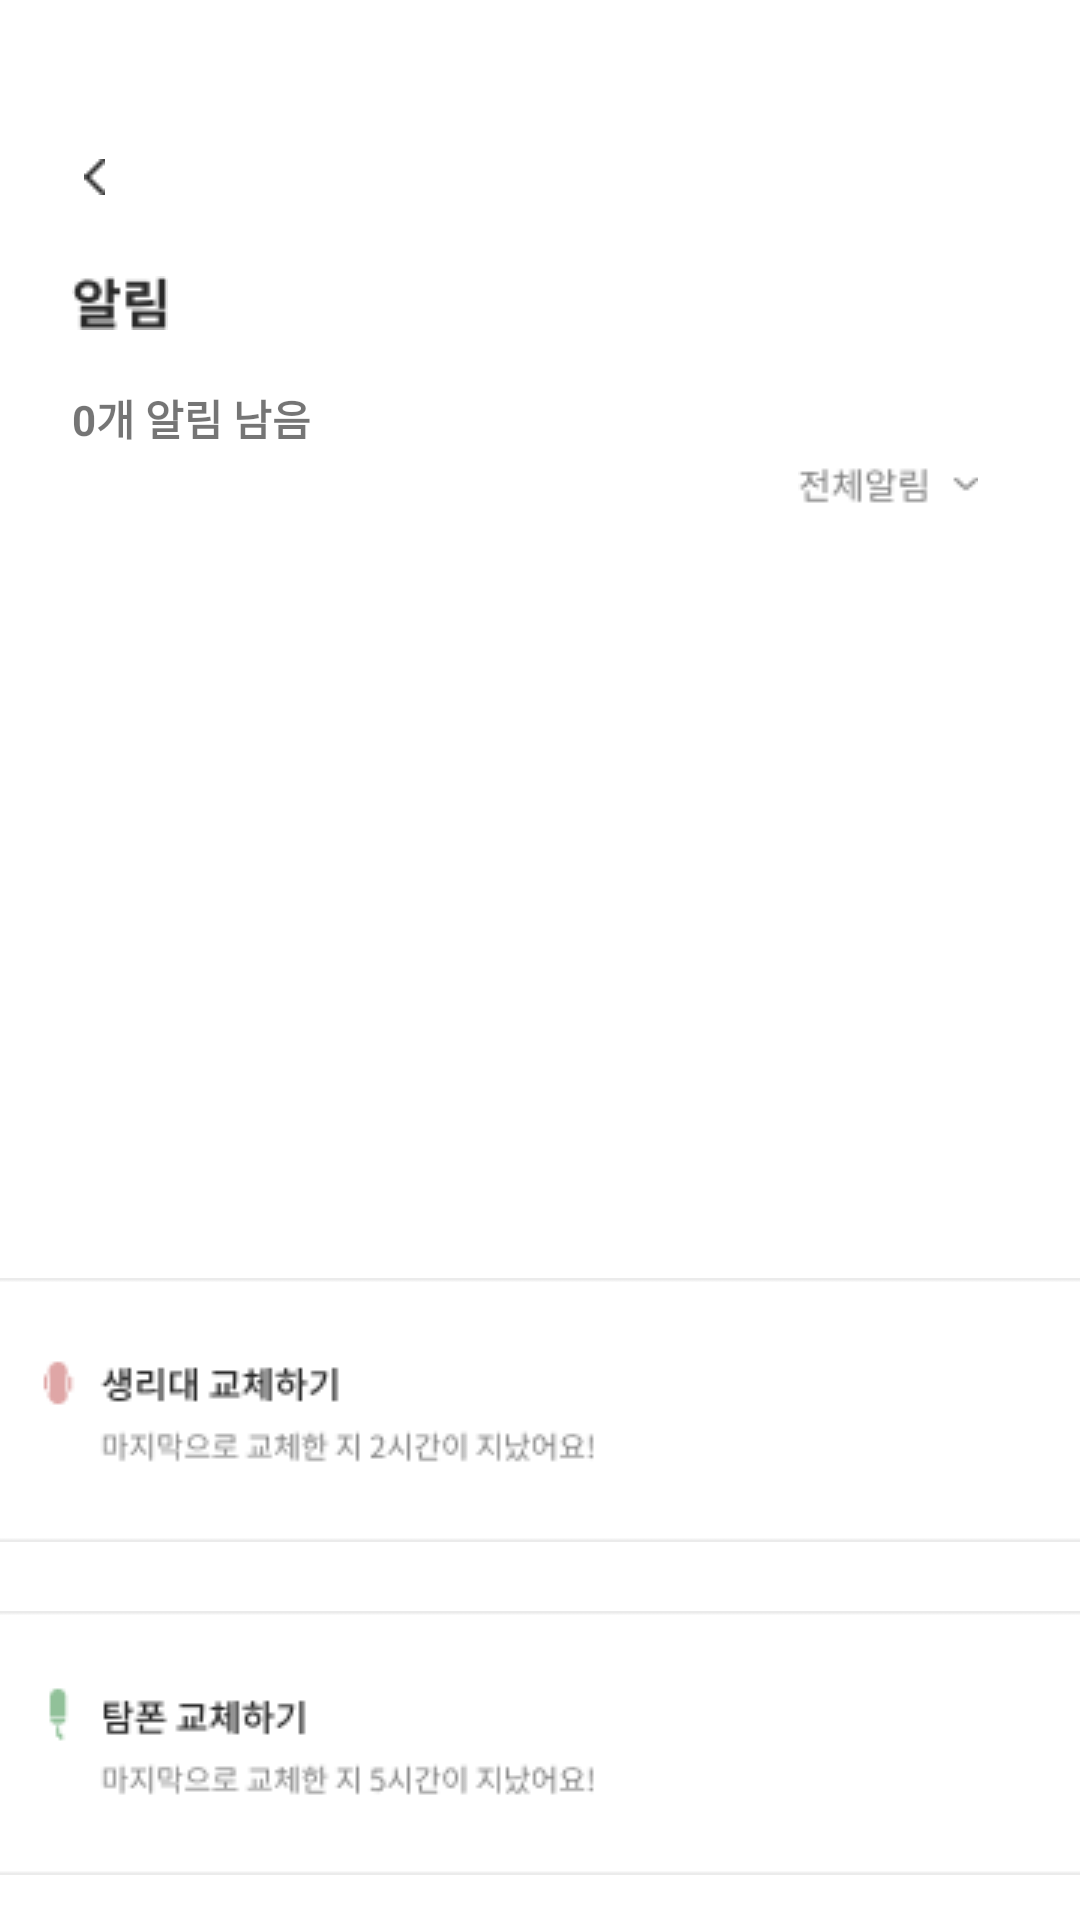

Named icons in this screenshot (1080*1920) and their bounding boxes, Rect(x1, y1, x2, y2):
back: Rect(84, 159, 105, 195)
